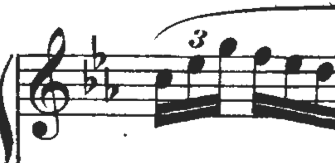flat: (88, 31, 110, 76), (101, 64, 123, 107), (80, 55, 100, 98)
treble_clef: (27, 21, 76, 148)
